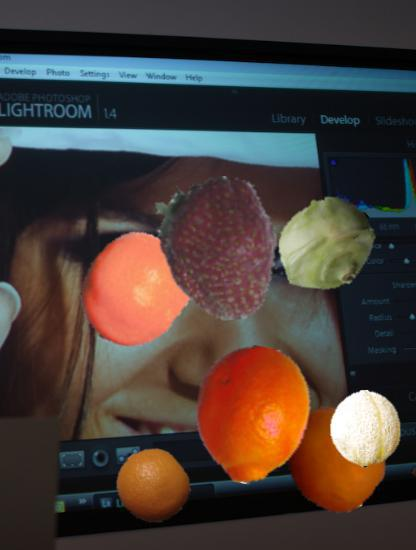Apricot: (277, 401, 390, 514)
Cantaloupe: (327, 390, 405, 468)
Clementine: (76, 230, 194, 348)
Kohlrabi: (273, 194, 379, 300)
Orange: (115, 449, 190, 524)
Strawberry: (145, 177, 289, 321)
Tangelo: (183, 346, 321, 484)
